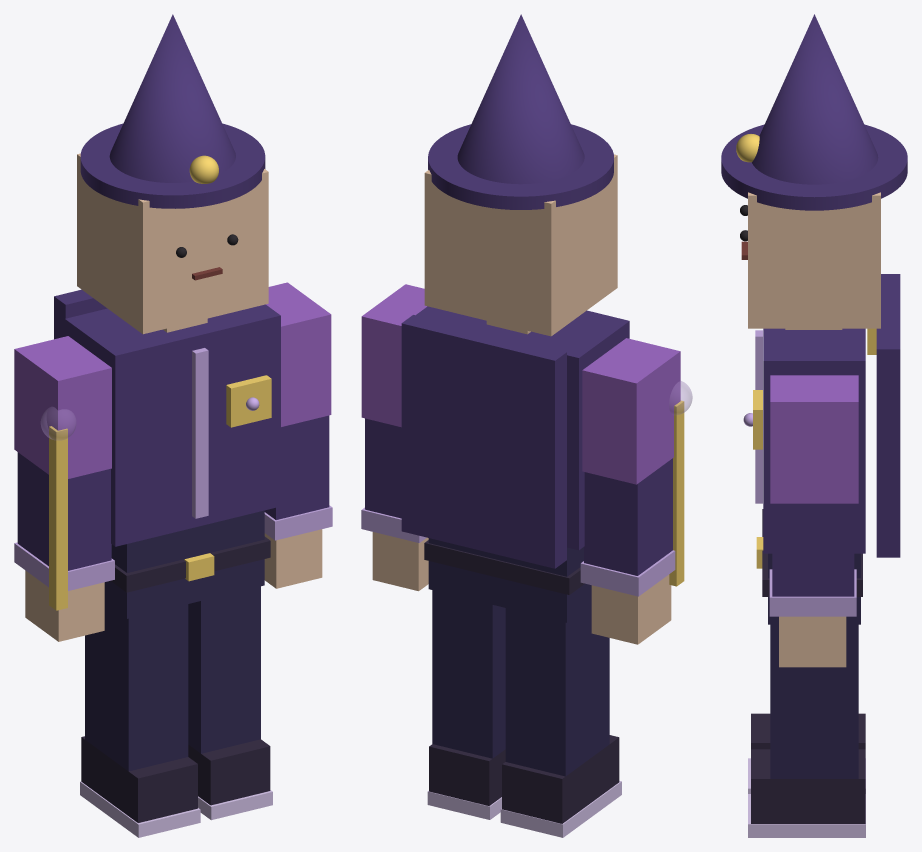
File: luna_moon_mage.glb
3 renders of one model, left to right at view 1: azimuth 30°, elevation 25°; view 2: azimuth 150°, elevation 25°; view 3: azimuth 270°, elevation 25°, orthographic.
Parts seen in each view (by area): view 1: luna_moon_mage_torso, luna_moon_mage_head, luna_moon_mage_left_leg, luna_moon_mage_wizard_hat, luna_moon_mage_left_upper_sleeve, luna_moon_mage_right_leg, luna_moon_mage_waist, luna_moon_mage_wizard_brim, luna_moon_mage_left_forearm, luna_moon_mage_right_upper_sleeve, luna_moon_mage_left_boot, luna_moon_mage_right_forearm (+15 smaller); view 2: luna_moon_mage_cape, luna_moon_mage_head, luna_moon_mage_left_leg, luna_moon_mage_wizard_hat, luna_moon_mage_left_upper_sleeve, luna_moon_mage_right_leg, luna_moon_mage_left_forearm, luna_moon_mage_torso, luna_moon_mage_wizard_brim, luna_moon_mage_waist, luna_moon_mage_right_upper_sleeve, luna_moon_mage_left_boot (+10 smaller); view 3: luna_moon_mage_head, luna_moon_mage_wizard_hat, luna_moon_mage_right_upper_sleeve, luna_moon_mage_right_leg, luna_moon_mage_torso, luna_moon_mage_right_forearm, luna_moon_mage_cape, luna_moon_mage_wizard_brim, luna_moon_mage_right_boot, luna_moon_mage_right_hand, luna_moon_mage_right_cuff, luna_moon_mage_right_sole (+6 smaller).
Part boxes in pixels (x1,y1,x2,y2): luna_moon_mage_torso: (65,304,280,546); luna_moon_mage_head: (77,153,268,334); luna_moon_mage_left_leg: (85,603,188,771); luna_moon_mage_wizard_hat: (109,14,235,182); luna_moon_mage_left_upper_sleeve: (14,336,111,478); luna_moon_mage_right_leg: (188,586,260,753); luna_moon_mage_waist: (104,510,264,618); luna_moon_mage_wizard_brim: (80,123,265,208); luna_moon_mage_left_forearm: (17,452,111,570); luna_moon_mage_right_upper_sleeve: (266,282,331,426); luna_moon_mage_left_boot: (81,736,197,822); luna_moon_mage_right_forearm: (264,415,329,519); luna_moon_mage_cape: (401,315,566,568); luna_moon_mage_head: (424,154,617,336); luna_moon_mage_left_leg: (505,605,609,776); luna_moon_mage_wizard_hat: (457,14,584,184); luna_moon_mage_left_upper_sleeve: (582,338,680,484); luna_moon_mage_right_leg: (432,590,505,758); luna_moon_mage_left_forearm: (584,458,672,575); luna_moon_mage_torso: (416,306,629,550); luna_moon_mage_wizard_brim: (428,124,613,209); luna_moon_mage_waist: (428,538,591,622); luna_moon_mage_right_upper_sleeve: (361,284,426,427); luna_moon_mage_left_boot: (502,735,619,823); luna_moon_mage_head: (748,192,880,328); luna_moon_mage_wizard_hat: (752,14,878,184); luna_moon_mage_right_upper_sleeve: (770,375,858,503); luna_moon_mage_right_leg: (770,624,858,778); luna_moon_mage_torso: (763,328,865,553); luna_moon_mage_right_forearm: (772,503,854,596); luna_moon_mage_cape: (876,274,900,557); luna_moon_mage_wizard_brim: (721,124,907,210); luna_moon_mage_right_boot: (751,749,865,823); luna_moon_mage_right_hand: (779,616,846,667); luna_moon_mage_right_cuff: (769,569,856,616); luna_moon_mage_right_sole: (748,794,865,837).
Bounding box in the file's own units: 0.537 × 1.4 × 0.3.
